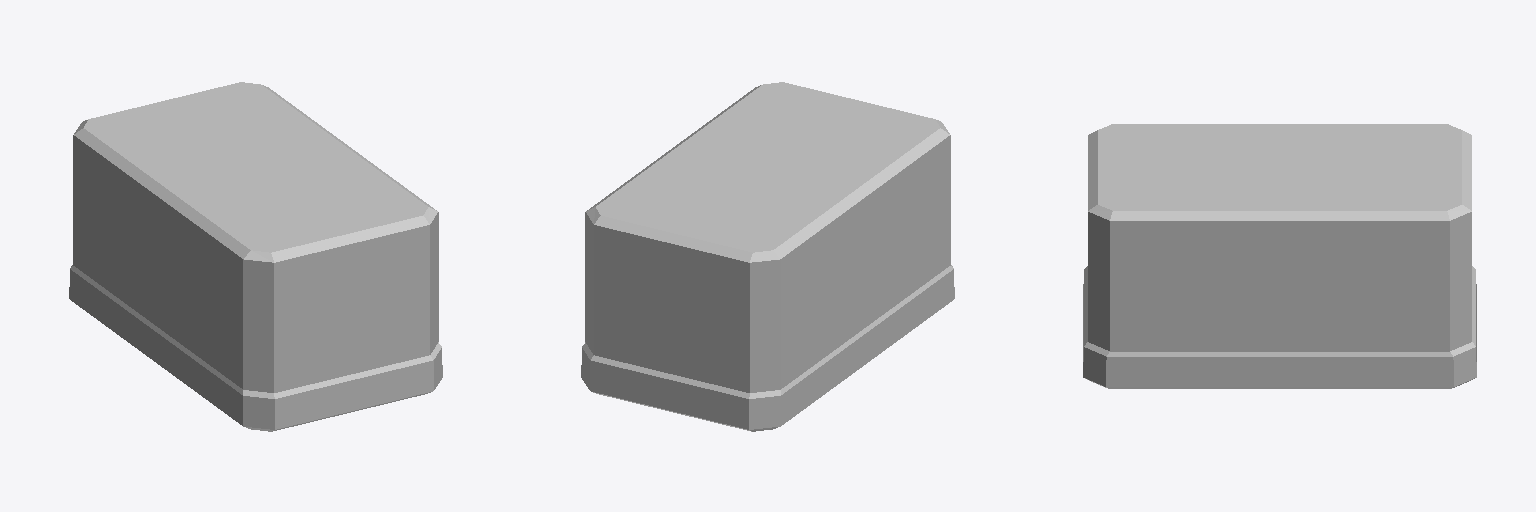
File: boxSmall.obj
3 views of the same model, side by side, from view 1: azimuth 30°, elevation 25°; view 2: azimuth 150°, elevation 25°; view 3: azimuth 270°, elevation 25° (orthographic).
Parts seen in each view (by area): view 1: small_box003; view 2: small_box003; view 3: small_box003.
Part boxes in pixels (x1,y1,x2,y2): small_box003: (69,82,442,431); small_box003: (581,82,954,431); small_box003: (1083,124,1476,388).
Size of the model in its own units: 0.7416 by 0.6297 by 1.27.